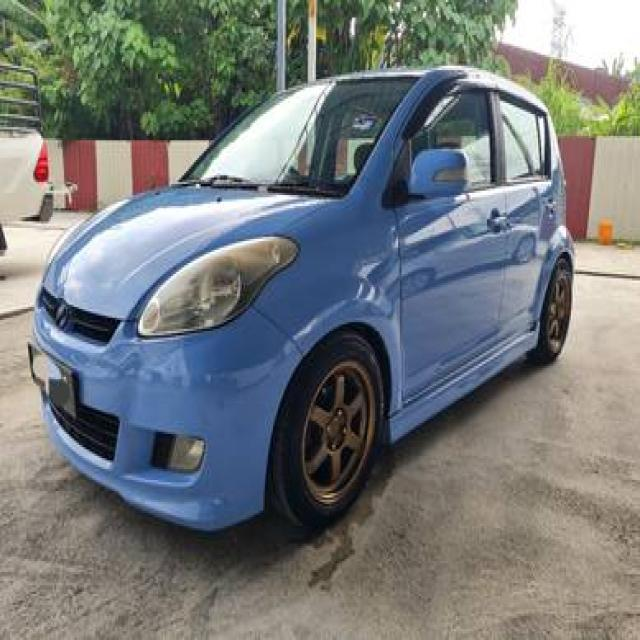PeroduaMyvi: (26, 61, 576, 537)
